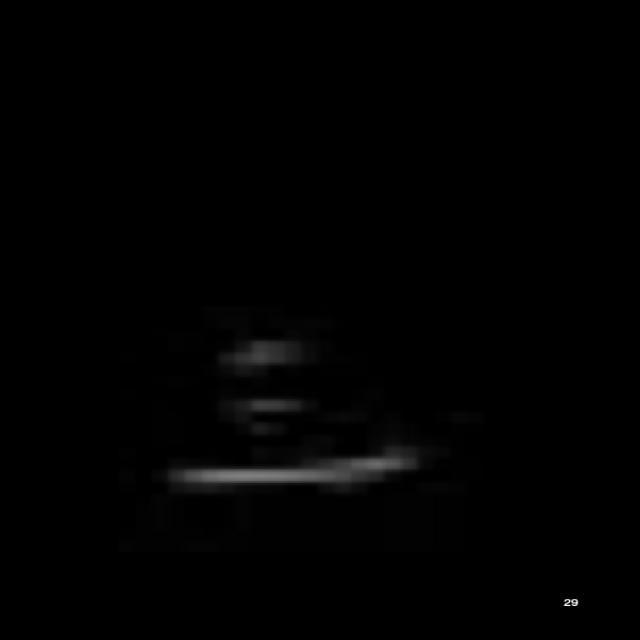3 -three-: (156, 327, 435, 505)
